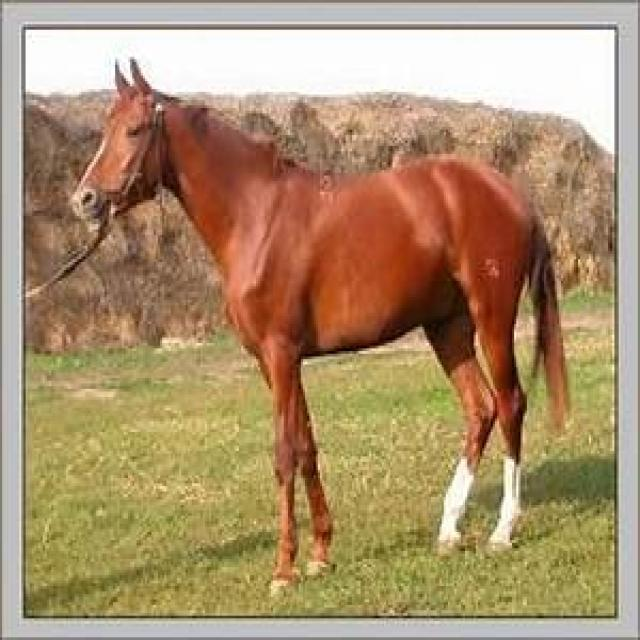horse: (67, 58, 558, 581)
